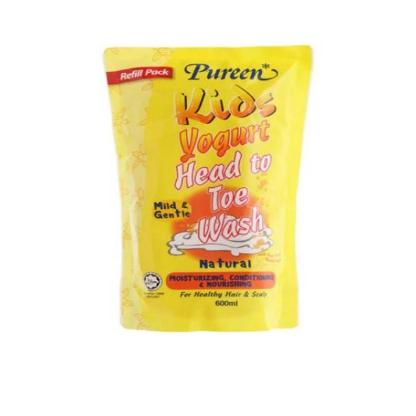Plastic Packaging: (96, 46, 320, 336)
